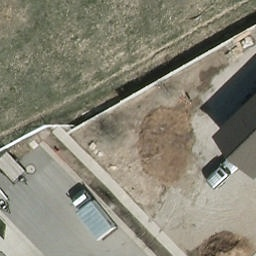car: (207, 156, 240, 191)
truck: (64, 189, 119, 244)
